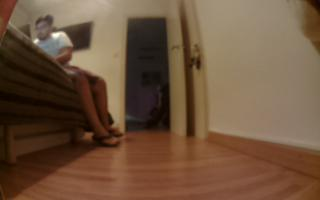person: (32, 13, 133, 148)
